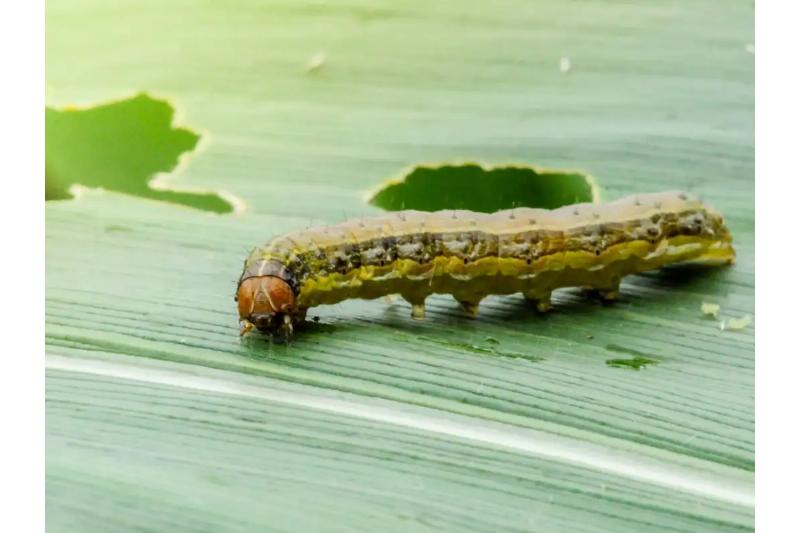fall-armyworm: (235, 192, 739, 345)
